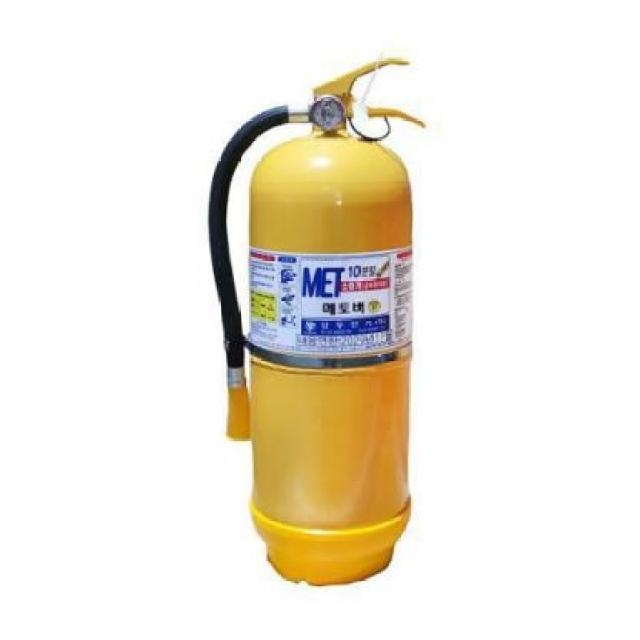fire extinguisher: (208, 49, 427, 588)
